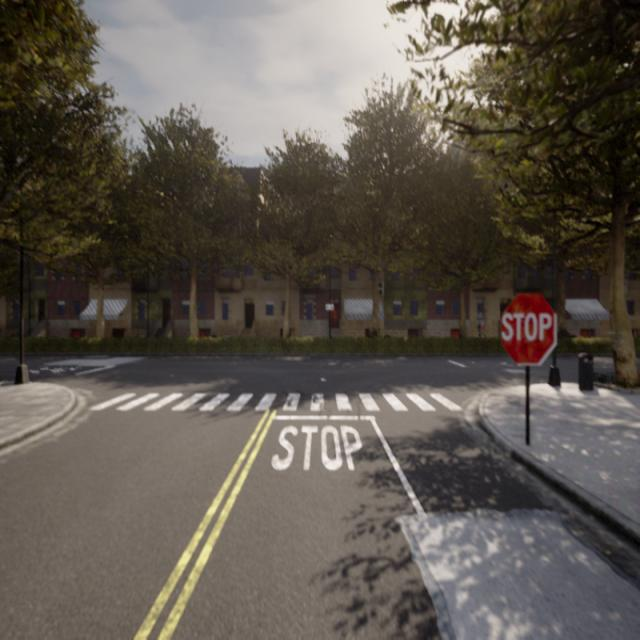stop sign: (497, 288, 558, 368), (500, 310, 553, 344)
